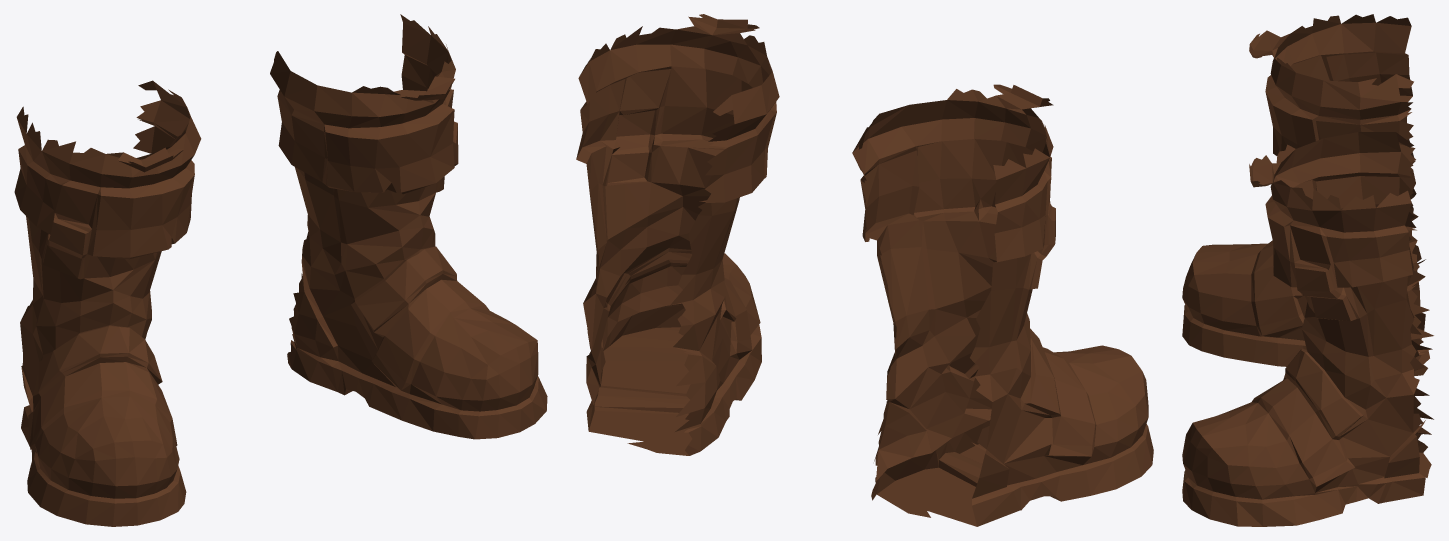
File: stiefel.glb
3 views of the same model, side by side, from view 1: azimuth 30°, elevation 25°; view 2: azimuth 150°, elevation 25°; view 3: azimuth 270°, elevation 25° (orthographic). The views are drawn at different scales.
Visible parts, largest first — view 1: stiefel; view 2: stiefel; view 3: stiefel.
Part boxes in pixels (box(x1,y1,x2,y2)): stiefel: box(14, 14, 547, 526); stiefel: box(576, 14, 1153, 526); stiefel: box(1182, 14, 1433, 526).
Bounding box in the file's own units: 0.6668 × 0.4276 × 0.314.
